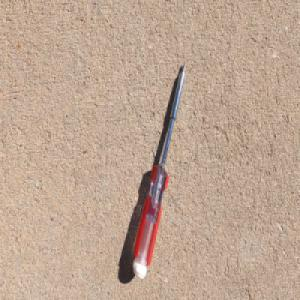Screwdriver: (132, 59, 187, 280)
